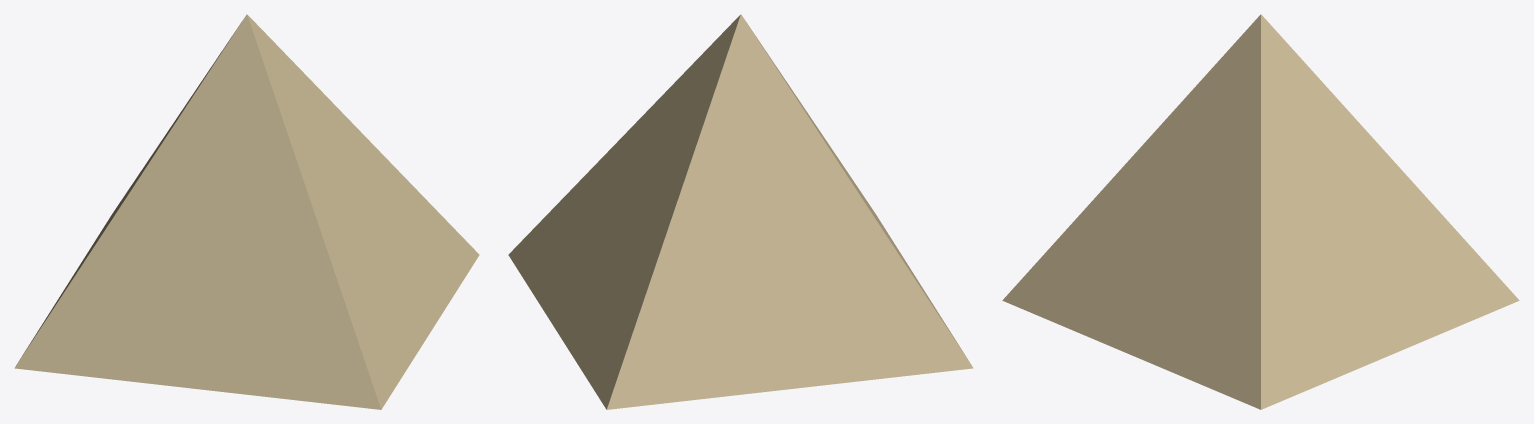
The picture shows the model from 3 angles, left to right: view 1: azimuth 30°, elevation 25°; view 2: azimuth 150°, elevation 25°; view 3: azimuth 270°, elevation 25°; orthographic projection. The views are drawn at different scales.
Visible parts, largest first — view 1: part0; view 2: part0; view 3: part0.
Part boxes in pixels (left/top/right/bottom): part0: left=14, top=14, right=479, bottom=409; part0: left=508, top=14, right=973, bottom=409; part0: left=1002, top=14, right=1519, bottom=409.
Size of the model in its own units: 3.6 by 2.2 by 3.6.
